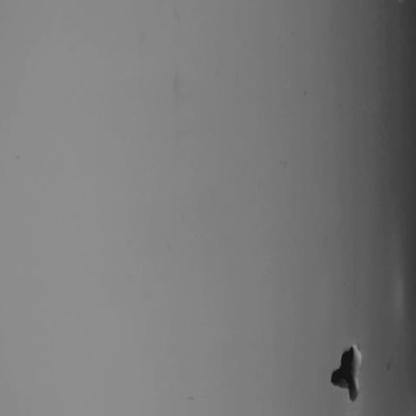kongdong: (321, 337, 371, 408)
